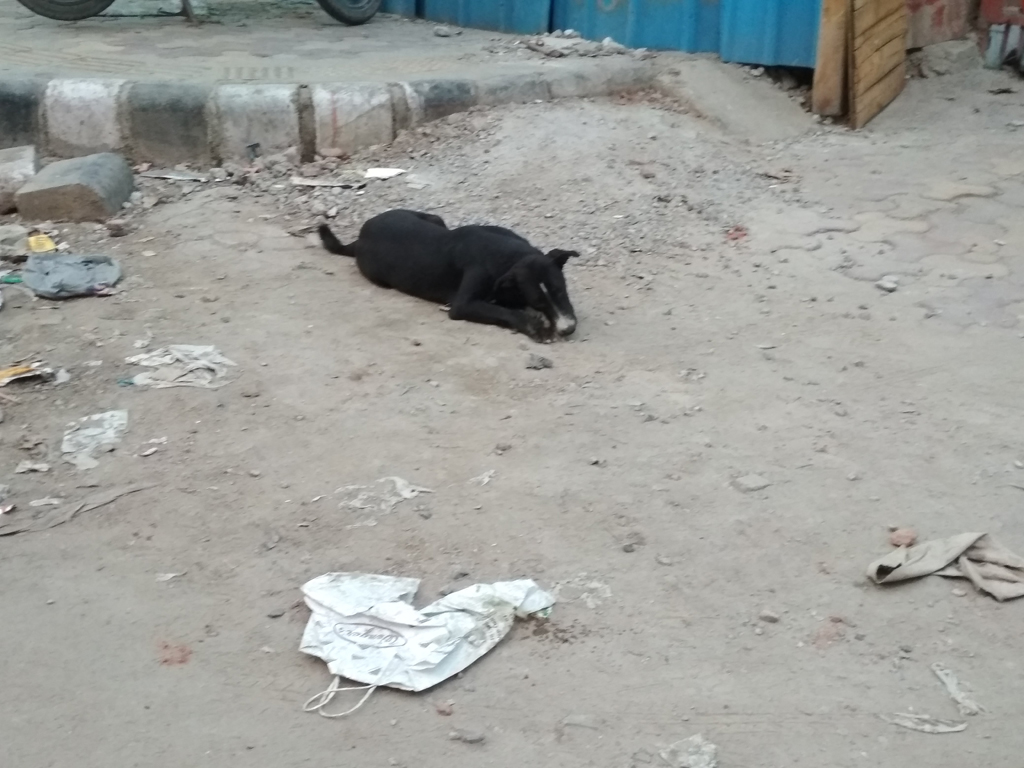dog: (319, 209, 583, 342)
